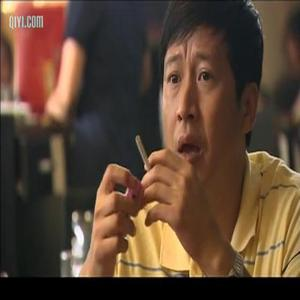cigarette: (136, 135, 151, 175)
